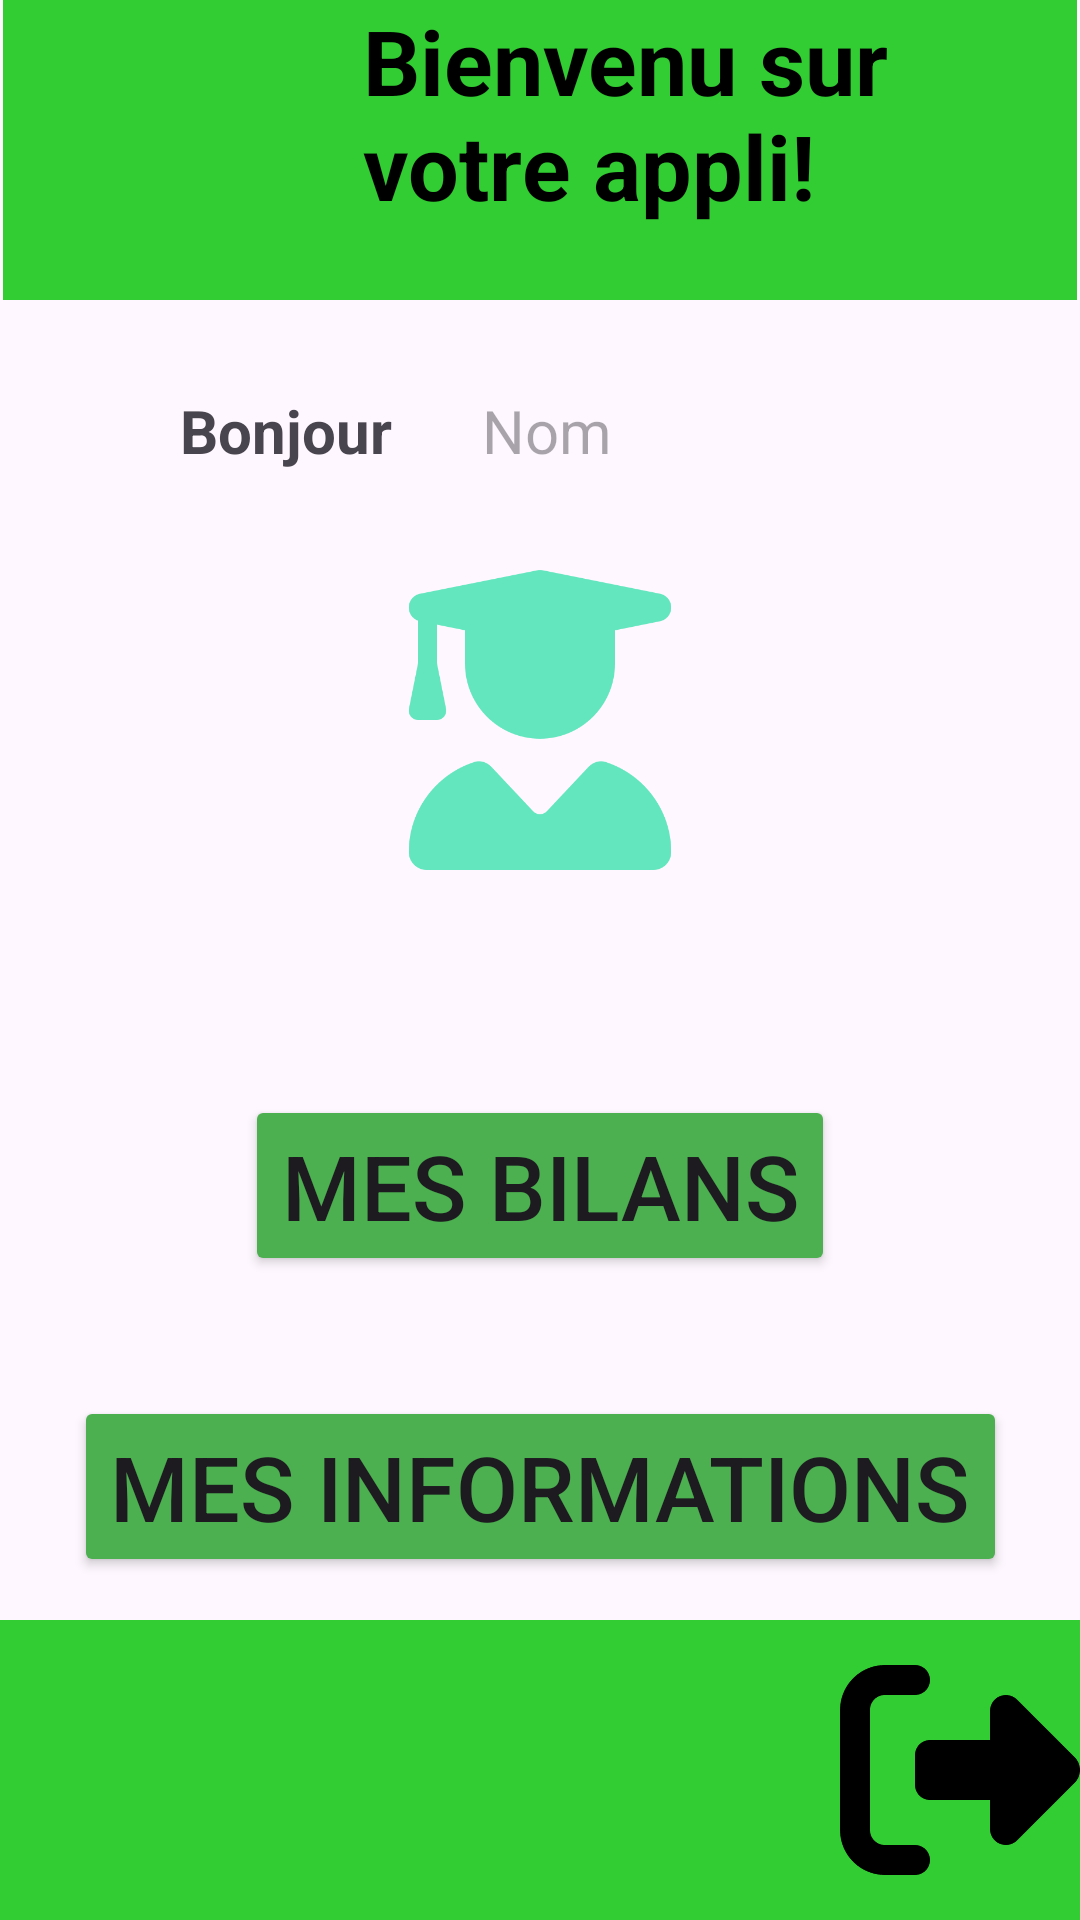

Point at icon controls on the screen. Image size 1080px×1920px, points as point (x, y).
escape: point (960, 1770)
user: point (540, 720)
